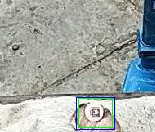text: (78, 98, 112, 127)
